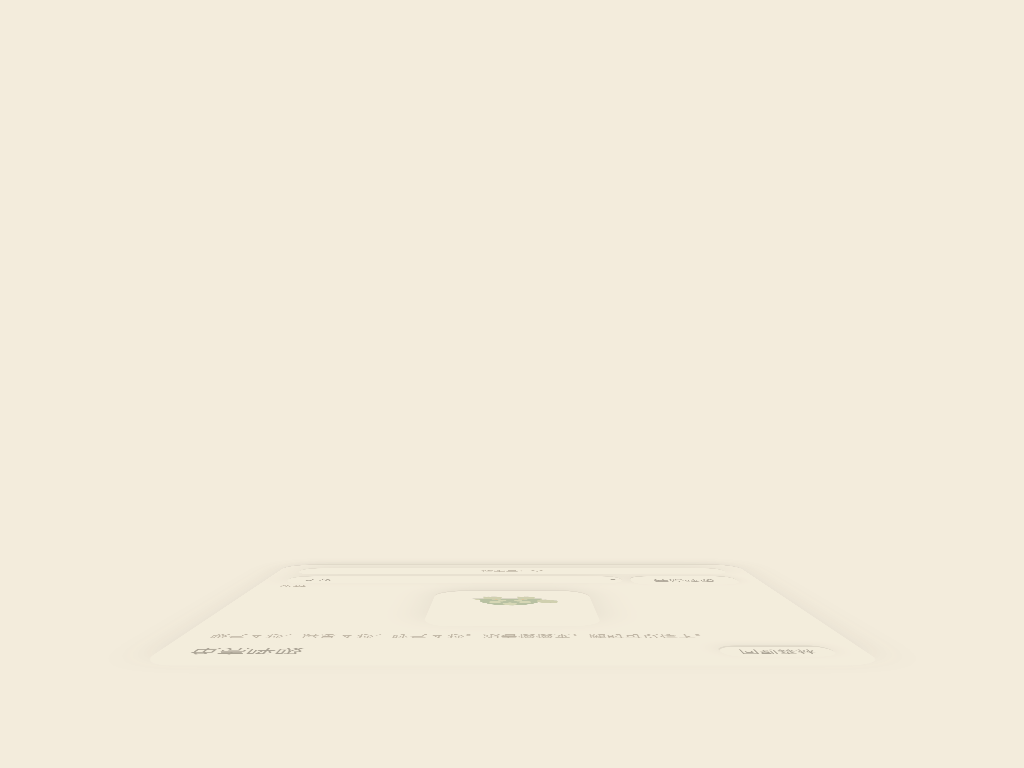
龟壳呼吸 › 中途结束不产生记录
The width and height of the screenshot is (1024, 768).
Click the button "开始呼吸" at (686, 580), box [628,576,743,584]
Wait 20000 ms
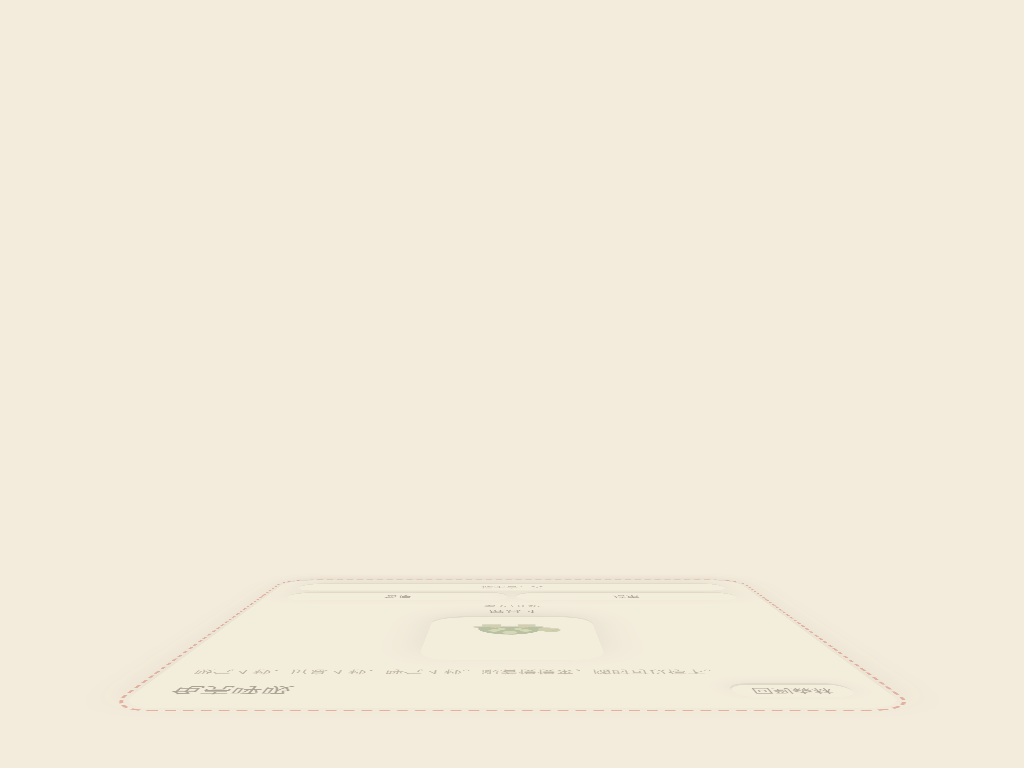
Click the button "结束" at (628, 596), box [516,593,740,600]
Wait 60000 ms
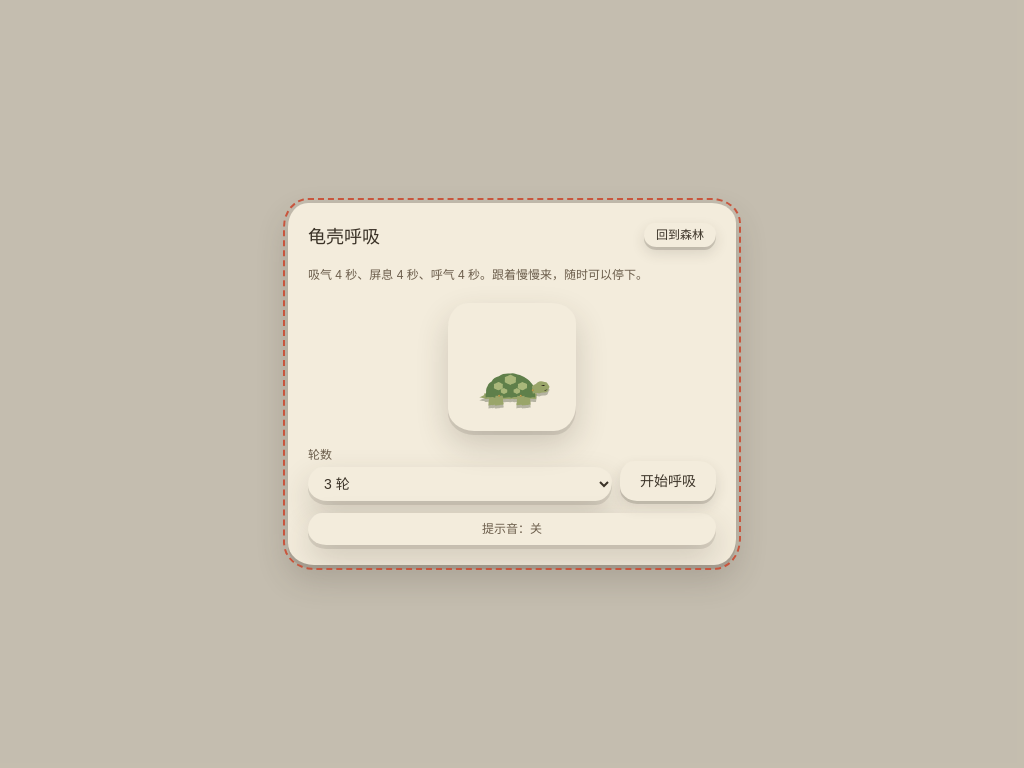
Check: the button "开始呼吸" is shown, box [620,461,716,501]
